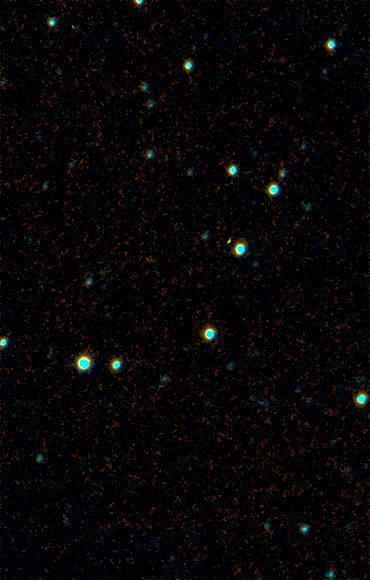star: (215, 231, 245, 261)
